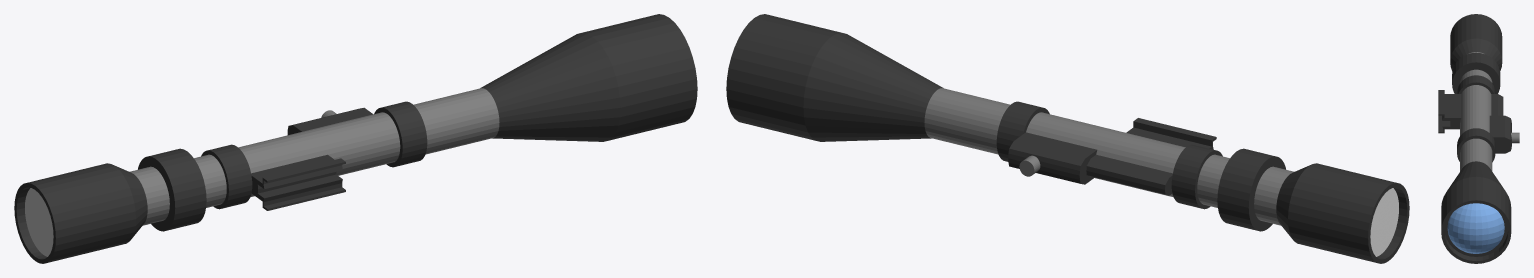
File: SniperRifleScope.fbx
3 renders of one model, left to right at view 1: azimuth 30°, elevation 25°; view 2: azimuth 150°, elevation 25°; view 3: azimuth 270°, elevation 25°, orthographic. The views are drawn at different scales.
Parts seen in each view (by area): view 1: Cylinder; view 2: Cylinder; view 3: Cylinder.
Part boxes in pixels (x1=…): Cylinder: x1=14, y1=14, x2=697, y2=263; Cylinder: x1=726, y1=14, x2=1409, y2=263; Cylinder: x1=1438, y1=14, x2=1519, y2=263.
Bounding box in the file's own units: 144 × 21.65 × 24.99.
